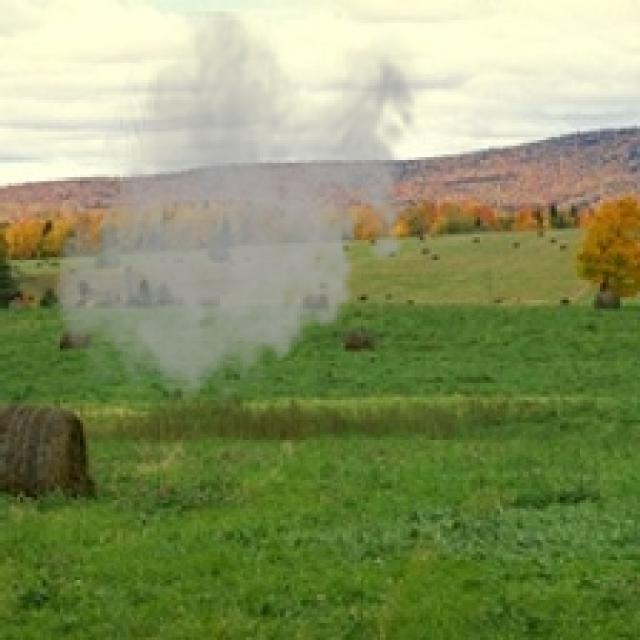smoke: (46, 12, 428, 414)
